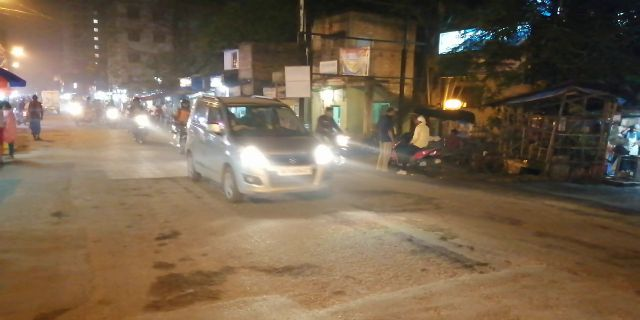Car: (186, 85, 339, 209)
